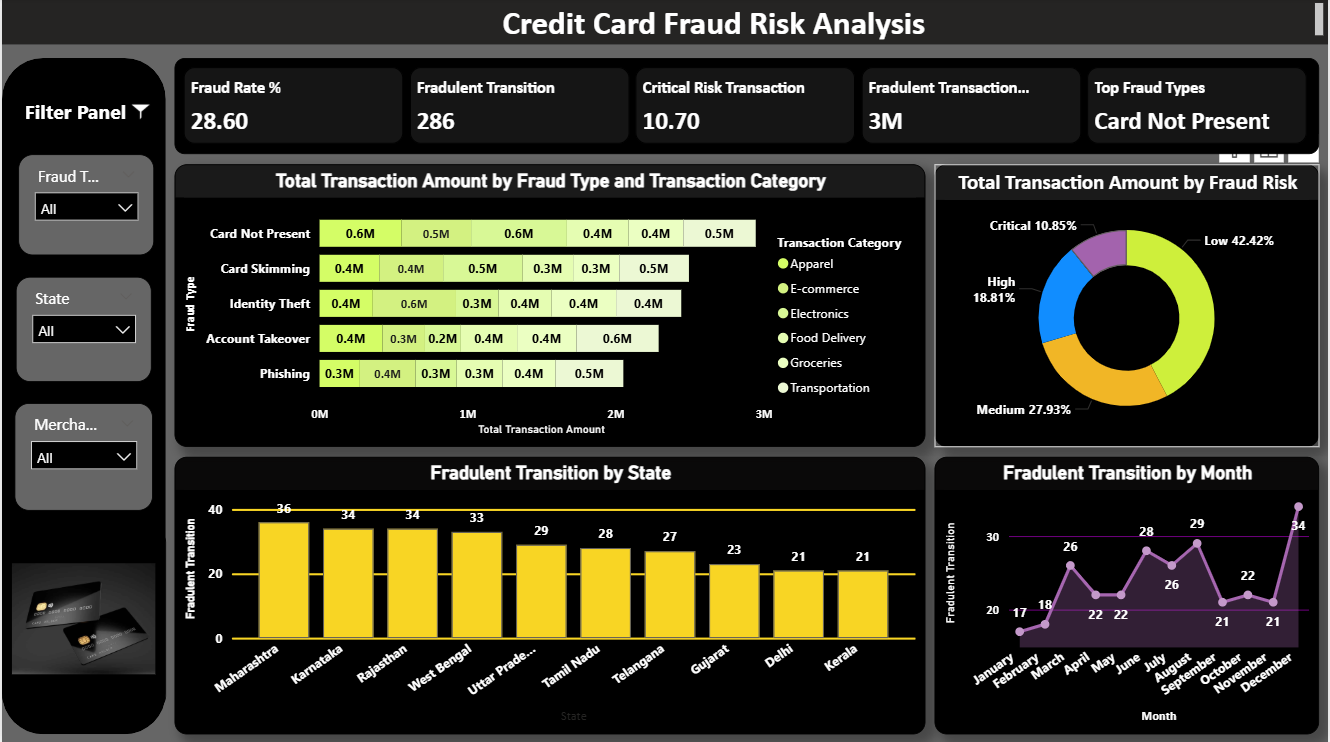

Layout of this report page (visuals, bound fields, positions):
{"tool":"powerbi","page":{"name":"Page 1","canvas":[1280,720],"ordinal":0},"visuals":[{"type":"textbox","box":[0,0,1280,44.6],"z":0},{"type":"shape","box":[0,57.9,158,652.7],"z":1000},{"type":"textbox","box":[16.9,91.7,131.5,50.7],"z":2000},{"type":"image","box":[119.4,91.7,29,35],"z":3000},{"type":"barChart","fields":{"Y":["Credit Card Fraud Risk Analysis ap.Total Transaction Amount"],"Category":["Credit Card Fraud Risk Analysis ap.Fraud Type"],"Series":["Credit Card Fraud Risk Analysis ap.Transaction Category"]},"box":[166.5,160.5,725.1,272.7],"z":4000},{"type":"donutChart","fields":{"Y":["Credit Card Fraud Risk Analysis ap.Total Transaction Amount"],"Category":["Credit Card Fraud Risk Analysis ap.Fraud Risk"]},"box":[900,160.5,371.6,272.7],"z":5000},{"type":"columnChart","fields":{"Y":["Credit Card Fraud Risk Analysis ap.Fradulent Transition"],"Category":["Credit Card Fraud Risk Analysis ap.State"]},"box":[166.5,442.8,725.1,267.8],"z":6000},{"type":"lineChart","fields":{"Y":["Credit Card Fraud Risk Analysis ap.Fradulent Transition"],"Category":["Credit Card Fraud Risk Analysis ap.Transaction Date.Variation.Date Hierarchy.Month"]},"box":[900,442.8,371.6,267.8],"z":7000},{"type":"slicer","fields":{"Values":["Credit Card Fraud Risk Analysis ap.Fraud Type"]},"box":[15.7,150.8,131.5,97.7],"z":8000},{"type":"slicer","fields":{"Values":["Credit Card Fraud Risk Analysis ap.State"]},"box":[13.3,269,131.5,101.3],"z":9000},{"type":"slicer","fields":{"Values":["Credit Card Fraud Risk Analysis ap.Merchant Name"]},"box":[12.1,390.9,133.9,103.8],"z":10000},{"type":"image","box":[0,512.7,158,173.7],"z":11000},{"type":"cardVisual","fields":{"Data":["Credit Card Fraud Risk Analysis ap.Fraud Rate %","Credit Card Fraud Risk Analysis ap.Fradulent Transition","Credit Card Fraud Risk Analysis ap.Critical Risk Transaction","Credit Card Fraud Risk Analysis ap.Fradulent Transaction Amount","Credit Card Fraud Risk Analysis ap.Top Fraud Types"]},"box":[166.5,57.9,1105.1,92.9],"z":12000}]}

Visuals, with their boxes in screenshot pixels (x1, y1, x2, y2), scaled from the page's 1280x720 canvas onto the 1330x742 screenshot:
textbox: [0, 0, 1329, 46]
shape: [0, 60, 164, 732]
textbox: [18, 95, 154, 147]
image: [124, 95, 154, 131]
barChart - Credit Card Fraud Risk Analysis ap.Total Transaction Amount x Credit Card Fraud Risk Analysis ap.Fraud Type: [173, 165, 926, 446]
donutChart - Credit Card Fraud Risk Analysis ap.Total Transaction Amount x Credit Card Fraud Risk Analysis ap.Fraud Risk: [935, 165, 1321, 446]
columnChart - Credit Card Fraud Risk Analysis ap.Fradulent Transition x Credit Card Fraud Risk Analysis ap.State: [173, 456, 926, 732]
lineChart - Credit Card Fraud Risk Analysis ap.Fradulent Transition x Credit Card Fraud Risk Analysis ap.Transaction Date.Variation.Date Hierarchy.Month: [935, 456, 1321, 732]
slicer - Credit Card Fraud Risk Analysis ap.Fraud Type: [16, 155, 153, 256]
slicer - Credit Card Fraud Risk Analysis ap.State: [14, 277, 150, 382]
slicer - Credit Card Fraud Risk Analysis ap.Merchant Name: [13, 403, 152, 510]
image: [0, 528, 164, 707]
cardVisual - Credit Card Fraud Risk Analysis ap.Fraud Rate % x Credit Card Fraud Risk Analysis ap.Fradulent Transition: [173, 60, 1321, 155]
